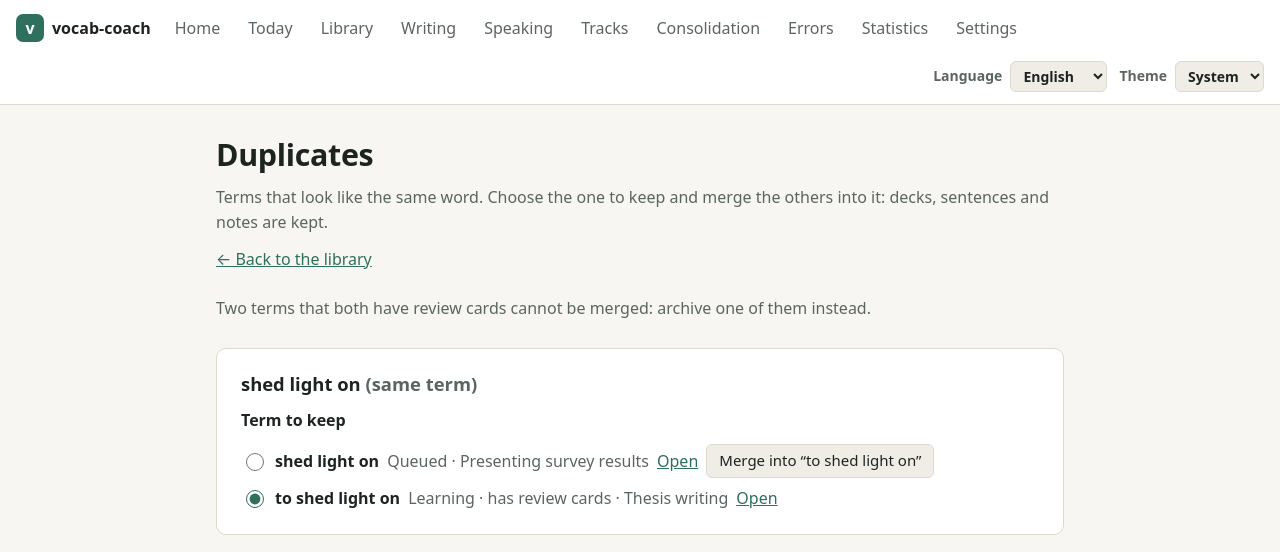
Test: duplicates page › keeps the term with cards by default and merges the other into it
Expected: the radio button labelled "to shed light on" is checked, x1=246 y1=490 x2=264 y2=508
Click the button "Merge into “to shed light on”". click: (820, 461)
box: x1=706 y1=444 x2=934 y2=478
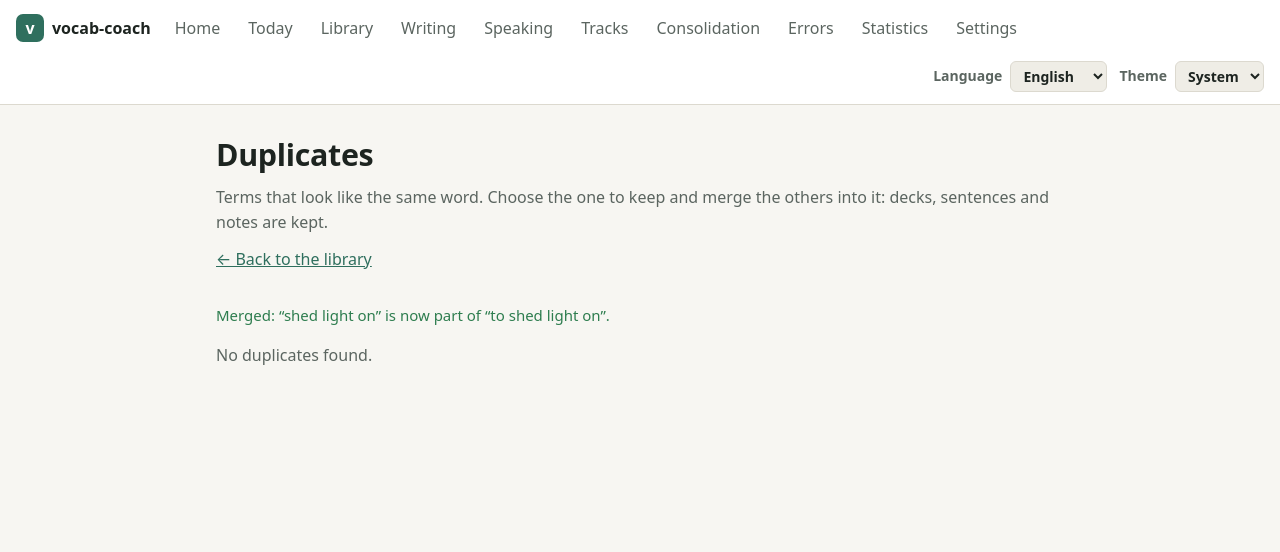
Expected: the text "Merged: “shed light on” is now part of “to shed light on”." is shown, x1=216 y1=305 x2=610 y2=325
Expected: the text "No duplicates found." is shown, x1=216 y1=344 x2=372 y2=366
